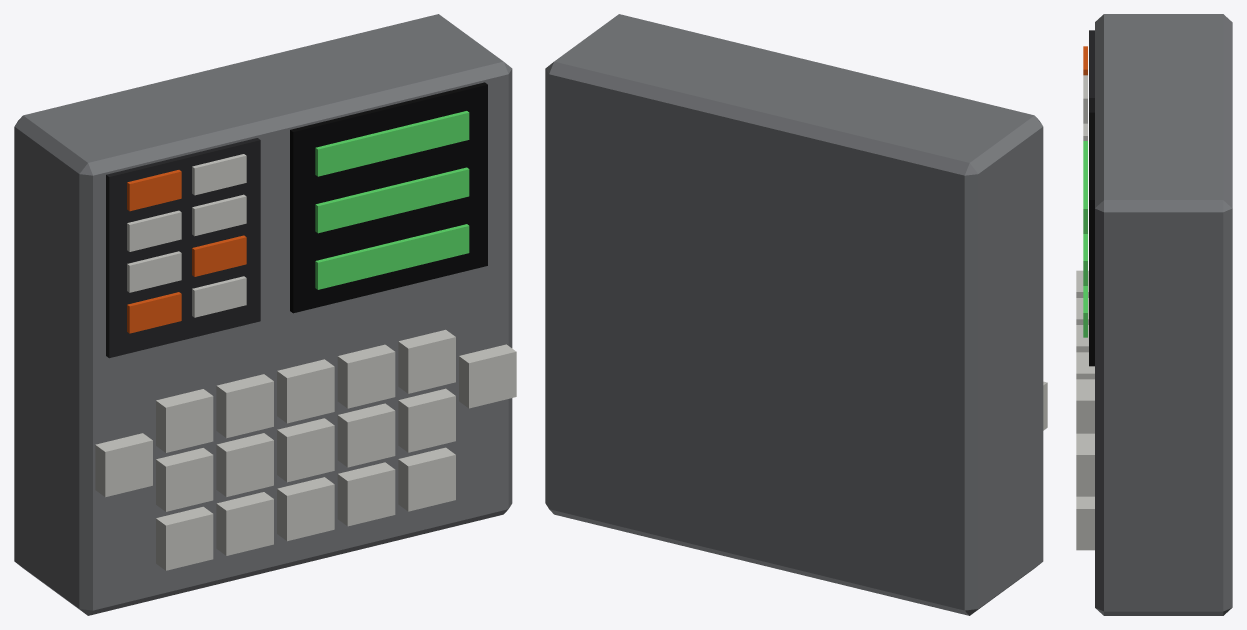
File: dsky.glb
The picture shows the model from 3 angles, left to right: view 1: azimuth 30°, elevation 25°; view 2: azimuth 150°, elevation 25°; view 3: azimuth 270°, elevation 25°; orthographic projection. The views are drawn at different scales.
Visible parts, largest first — view 1: model; view 2: model; view 3: model.
Boxes of the visible parts, <box> form: model: <box>14,14,516,615</box>; model: <box>545,14,1047,615</box>; model: <box>1076,14,1232,615</box>.
Bounding box in the file's own units: 0.2 × 0.2 × 0.068.
Materials: 1 (1 with a texture image).
